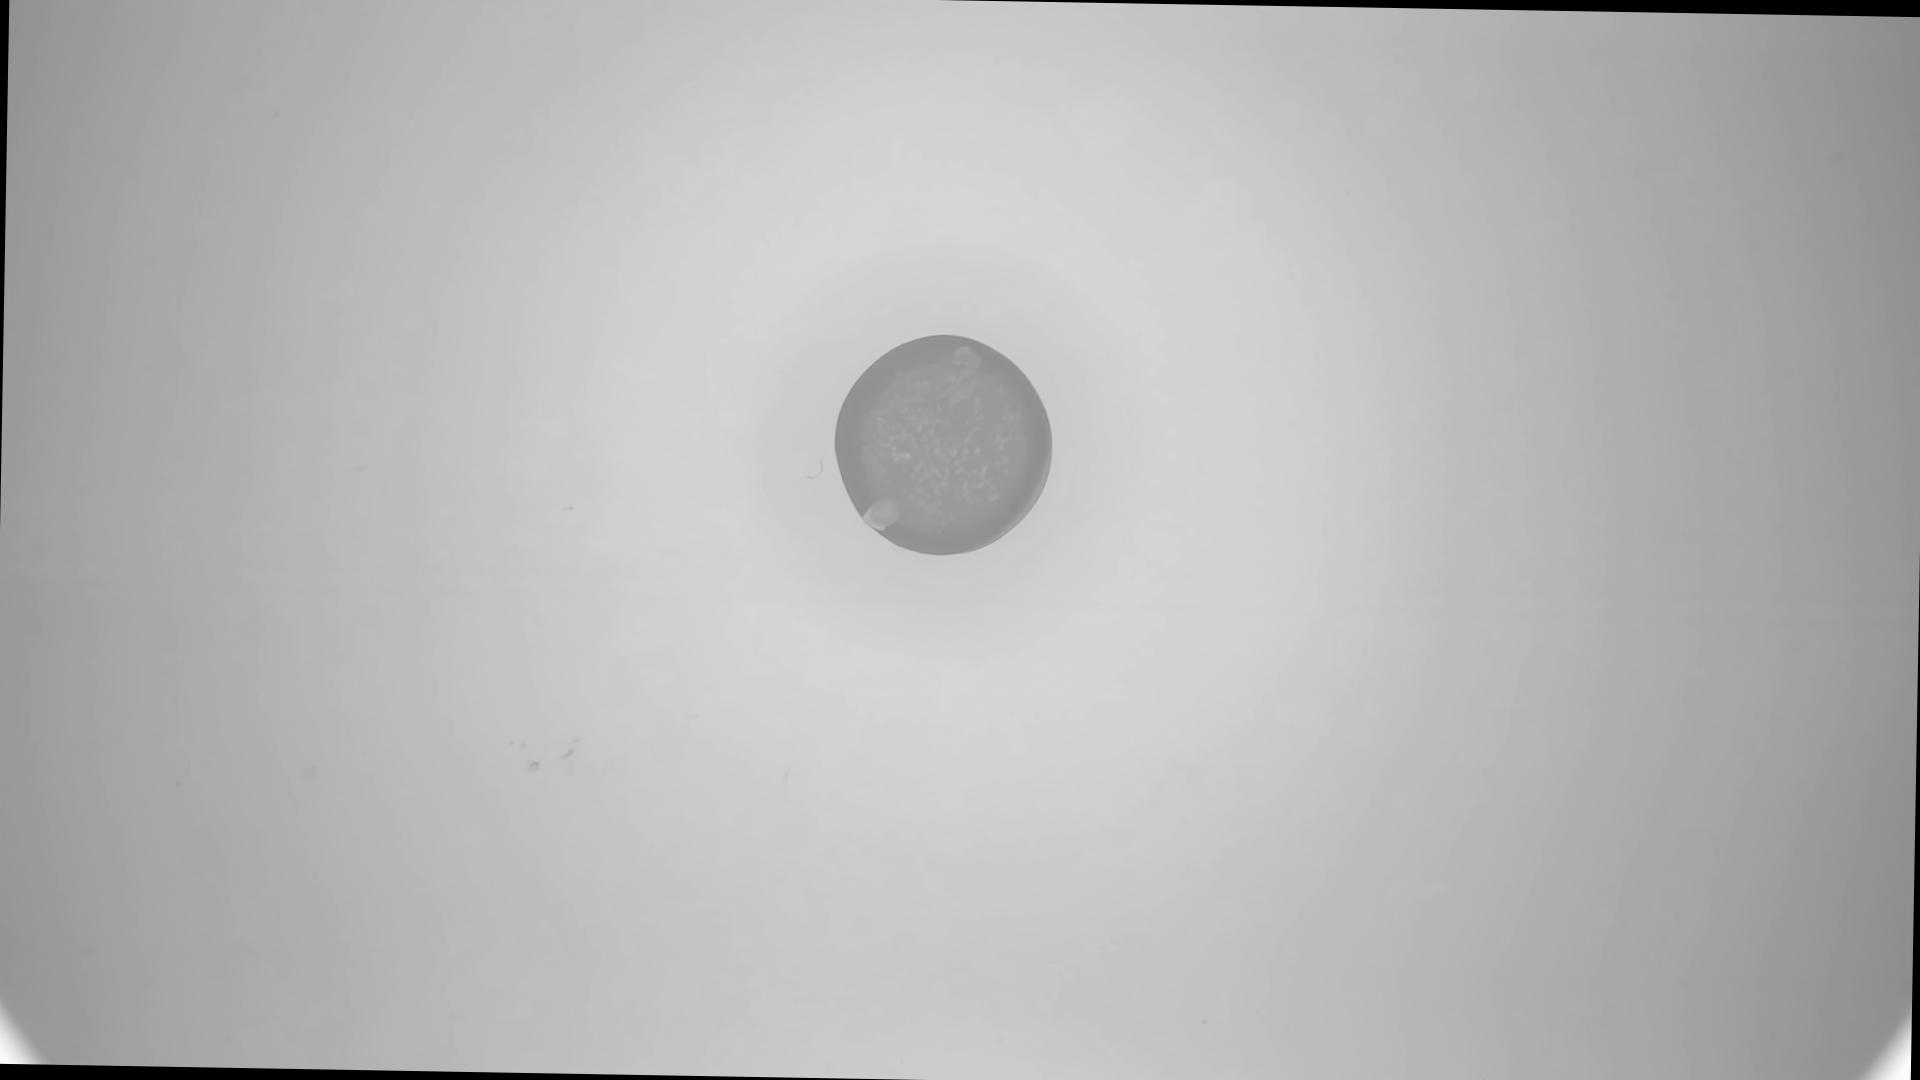abnormal: (832, 328, 1058, 560)
